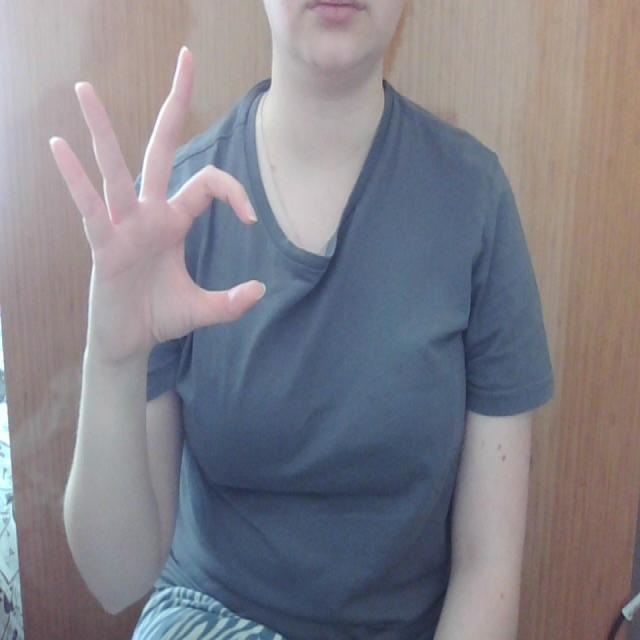Tuvalet: (39, 29, 270, 351)
